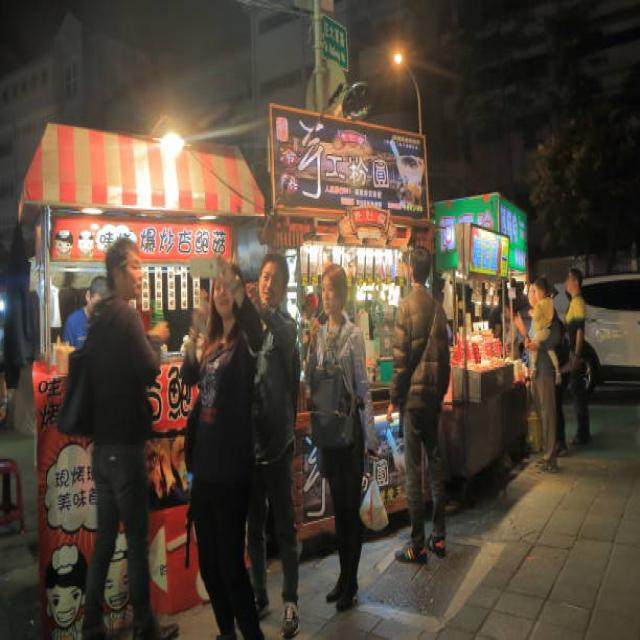Emperan: (12, 108, 269, 640), (253, 102, 452, 580), (420, 175, 552, 515)
